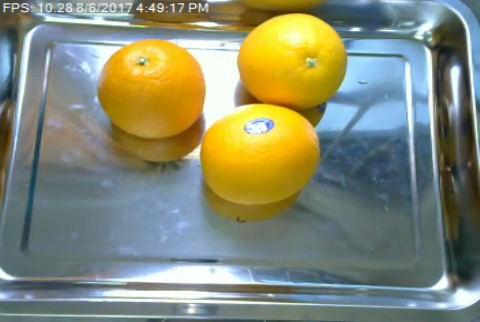Orange: (199, 103, 320, 205), (97, 39, 205, 139), (238, 14, 346, 110)
